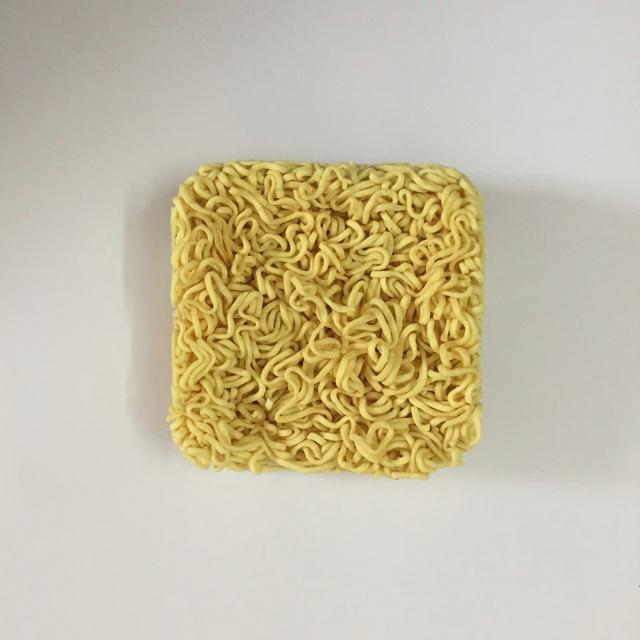noodles: (154, 150, 496, 490)
